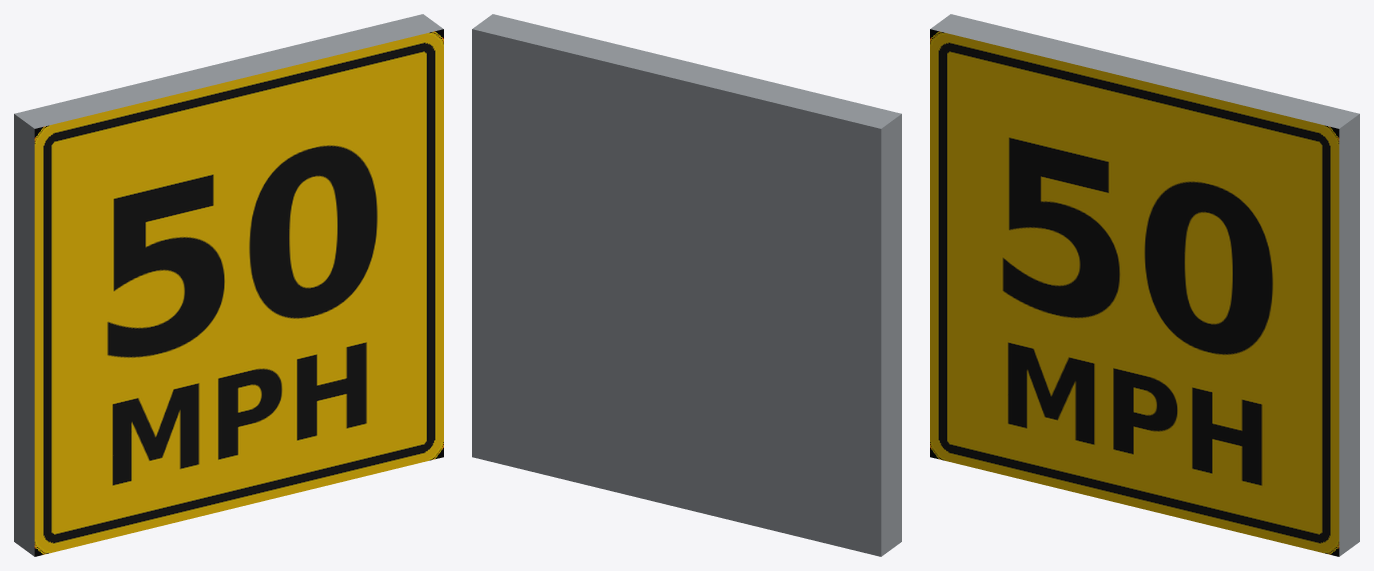
File: us_advisory50.dae
The picture shows the model from 3 angles, left to right: view 1: azimuth 30°, elevation 25°; view 2: azimuth 150°, elevation 25°; view 3: azimuth 330°, elevation 25°; orthographic projection.
Parts seen in each view (by area): view 1: sign4, Colmesh-1; view 2: Colmesh-1; view 3: sign4, Colmesh-1.
Part boxes in pixels (x1,y1,x2,y2): sign4: (34,29,443,556); Colmesh-1: (14,14,443,556); Colmesh-1: (472,14,901,556); sign4: (930,29,1339,556); Colmesh-1: (930,14,1359,556).
Bounding box in the file's own units: 0.4572 × 0.04 × 0.4572.
Materials: 2 (1 with a texture image).
